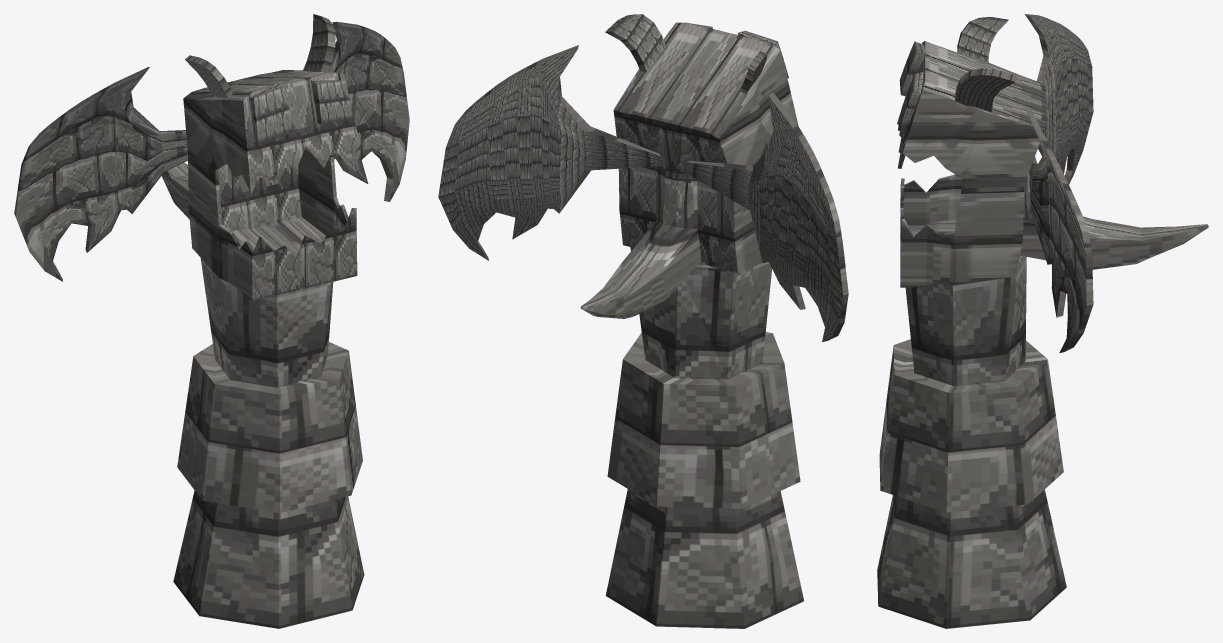
Rendered from Dragon Statue.fbx.
3 views of the same model, side by side, from view 1: azimuth 30°, elevation 25°; view 2: azimuth 150°, elevation 25°; view 3: azimuth 270°, elevation 25° (orthographic). The views are drawn at different scales.
Visible parts, largest first — view 1: Connect, Body, R_Wing, L_Wing, R_Eye, L_Eye, L_Ear, R_Ear; view 2: Connect, Body, L_Wing, R_Wing, L_Ear; view 3: Connect, Body, L_Wing, R_Wing, L_Ear, R_Ear, R_Eye, L_Eye.
Part boxes in pixels (x1=…): Connect: x1=173, y1=258, x2=364, y2=628; Body: x1=161, y1=70, x2=358, y2=301; R_Wing: x1=14, y1=67, x2=187, y2=281; L_Wing: x1=329, y1=21, x2=409, y2=201; R_Eye: x1=249, y1=81, x2=293, y2=143; L_Eye: x1=310, y1=80, x2=353, y2=123; L_Ear: x1=303, y1=14, x2=335, y2=71; R_Ear: x1=185, y1=55, x2=232, y2=97; Connect: x1=605, y1=247, x2=803, y2=628; Body: x1=580, y1=22, x2=798, y2=318; L_Wing: x1=438, y1=45, x2=663, y2=260; R_Wing: x1=683, y1=92, x2=848, y2=341; L_Ear: x1=605, y1=14, x2=665, y2=72; Connect: x1=877, y1=255, x2=1066, y2=628; Body: x1=897, y1=41, x2=1208, y2=287; L_Wing: x1=1024, y1=106, x2=1093, y2=352; R_Wing: x1=1025, y1=14, x2=1093, y2=184; L_Ear: x1=955, y1=68, x2=1017, y2=112; R_Ear: x1=957, y1=17, x2=1008, y2=62; R_Eye: x1=899, y1=41, x2=926, y2=96; L_Eye: x1=900, y1=72, x2=923, y2=126.
Size of the model in its own units: 161 by 212 by 116.
Materials: 3 (3 with a texture image).
